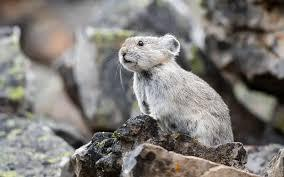Non_Gorille: (105, 16, 245, 158)
